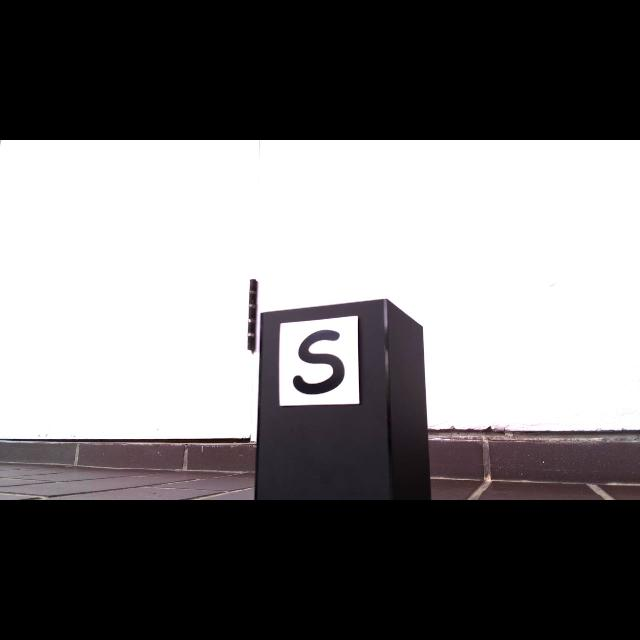S: (293, 331, 345, 395)
